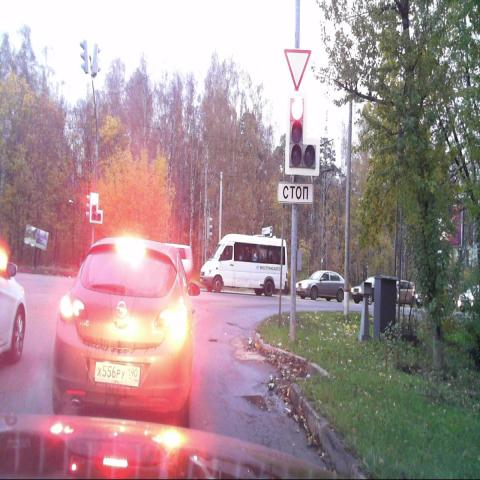6_16: (278, 184, 314, 204)
